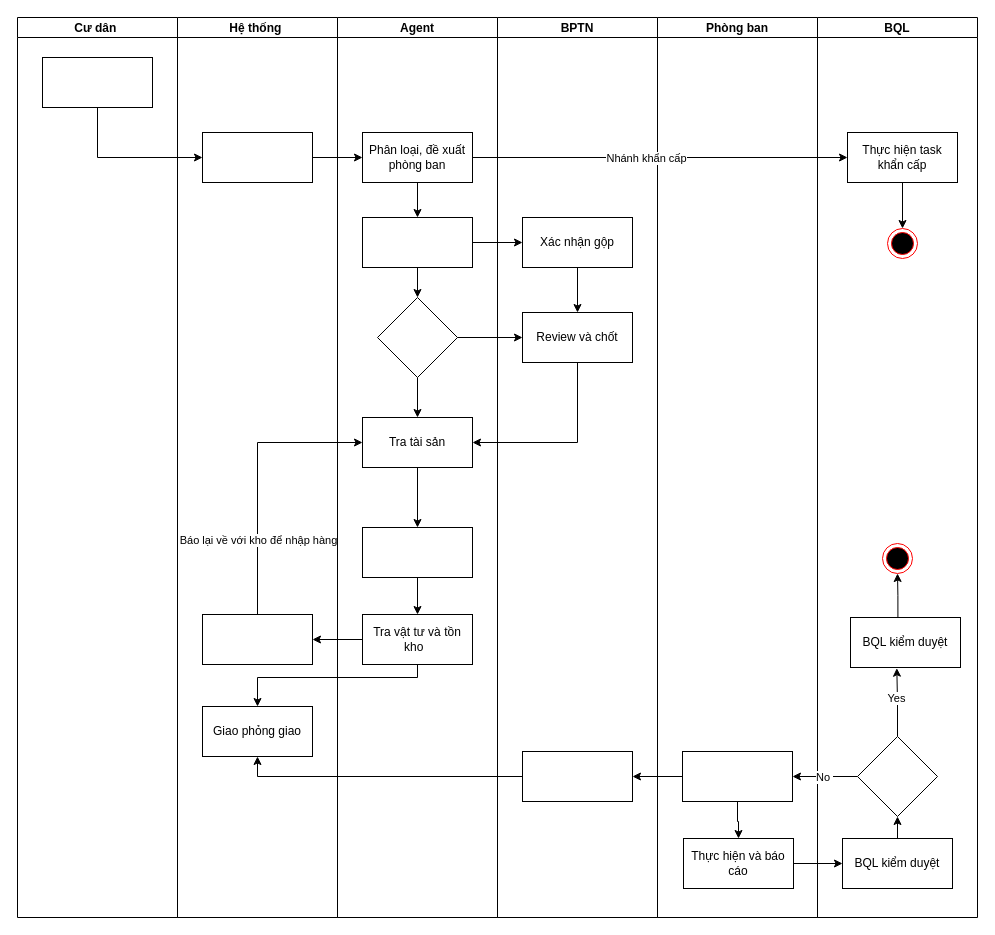
Image size: 995x935. Some labels were removed from this diagram. The centre of each missing label's shape, as x and y in pixels:
"Create ticket" belongs at pixel 97 82.
"Cần review" belongs at pixel 417 337.
"Kiểm tra dữ liệu" belongs at pixel 257 157.
"Kiểm tra trùng" belongs at pixel 417 242.
"Nhận việc và phân công" belongs at pixel 737 776.
"Tra vật tư và tài sản" belongs at pixel 417 552.
"Tạm hoãn, chờ nhập kho" belongs at pixel 257 639.
"Đối chiếu lại phòng ban" belongs at pixel 577 776.
